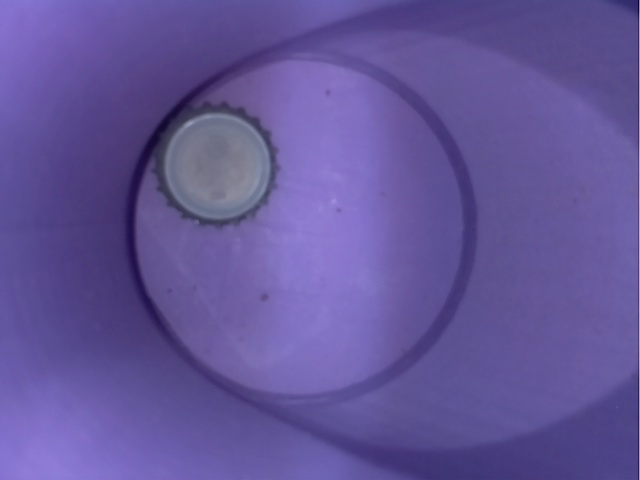capsule: (129, 82, 298, 234)
